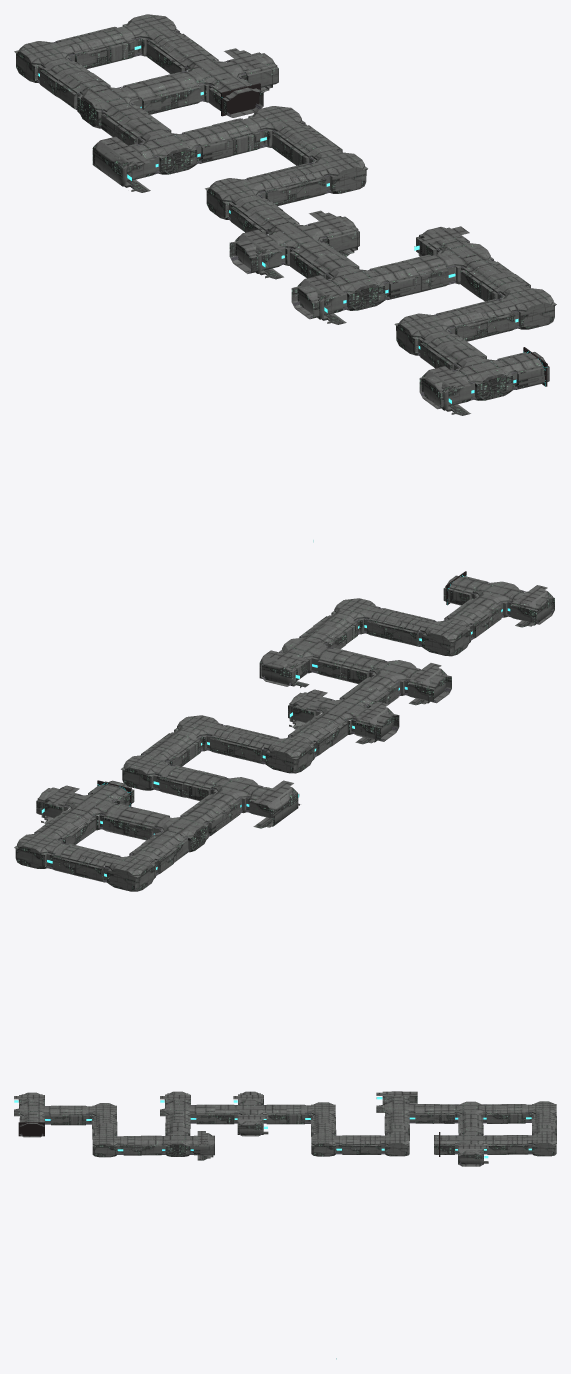
File: Eden_facility_east.glb
3 views of the same model, one above another, from view 1: azimuth 30°, elevation 25°; view 2: azimuth 150°, elevation 25°; view 3: azimuth 270°, elevation 25° (orthographic). The views are drawn at different scales.
Visible parts, largest first — view 1: east_wing, east_wing.2708, close.003, close.004, close.001, close.005, door; view 2: east_wing, east_wing.2708, close.003, close.007, close.004, close.005, close.001; view 3: east_wing, east_wing.2708, close.002, close.006, close.003, door.001.
Part boxes in pixels (x1,y1,x2,y2): east_wing: (14,14,556,542); east_wing.2708: (212,106,367,201); close.003: (92,136,150,192); close.004: (422,366,470,415); close.001: (297,275,346,324); close.005: (235,229,283,279); door: (221,83,260,116); east_wing: (14,575,554,891); east_wing.2708: (121,715,250,797); close.003: (253,780,300,828); close.007: (259,650,309,687); close.004: (515,585,553,627); close.005: (355,701,393,744); close.001: (408,663,446,705); east_wing: (19,1091,556,1359); east_wing.2708: (311,1122,409,1156); close.002: (237,1115,268,1134); close.006: (458,1144,488,1164); close.003: (376,1091,417,1112); door.001: (18,1122,44,1136).
Size of the model in its own units: 122 by 203 by 441.
Materials: 17 (17 with a texture image).
